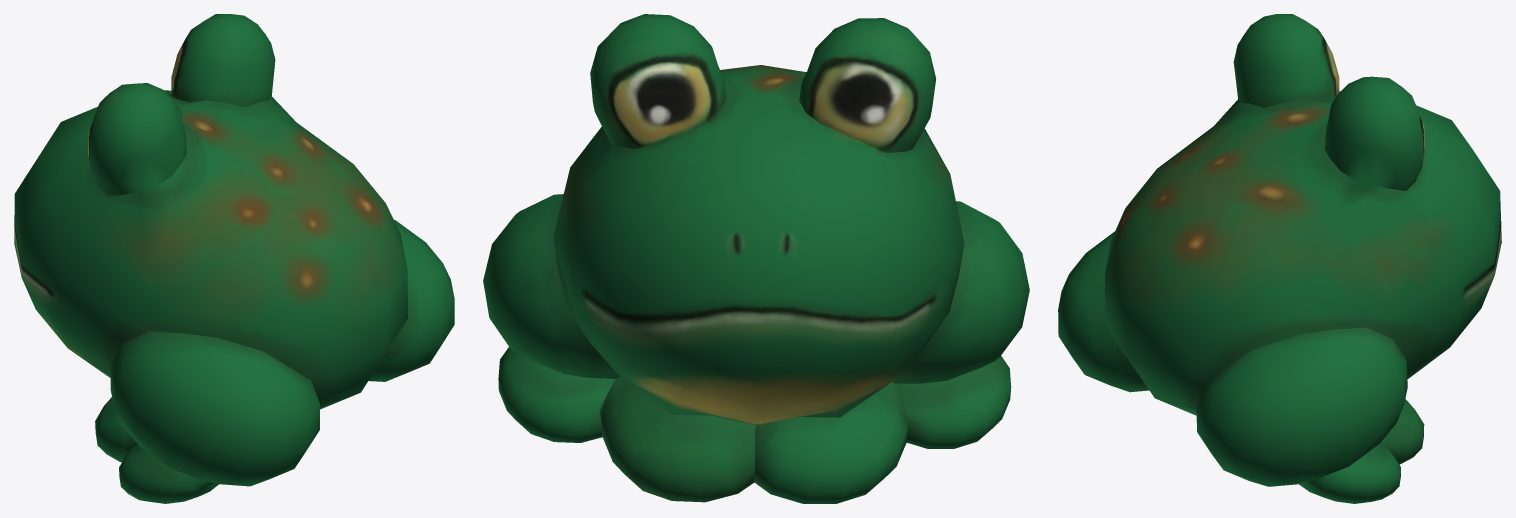
Rendered from Frog1.glb.
3 renders of one model, left to right at view 1: azimuth 30°, elevation 25°; view 2: azimuth 150°, elevation 25°; view 3: azimuth 270°, elevation 25°, orthographic. The views are drawn at different scales.
Visible parts, largest first — view 1: CryoOrbFrogAlt.001; view 2: CryoOrbFrogAlt.001; view 3: CryoOrbFrogAlt.001.
Part boxes in pixels (left/top/right/bottom): CryoOrbFrogAlt.001: left=14, top=14, right=454, bottom=503; CryoOrbFrogAlt.001: left=483, top=14, right=1029, bottom=503; CryoOrbFrogAlt.001: left=1058, top=14, right=1501, bottom=503.
Bounding box in the file's own units: 0.2752 × 0.2693 × 0.2762.
1 material, 1 textured.
